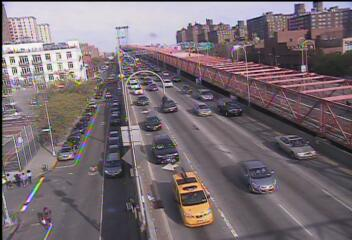neg: (109, 188, 134, 222), (279, 124, 304, 157), (174, 120, 198, 151), (1, 29, 24, 61), (261, 160, 284, 190), (140, 44, 163, 74), (53, 60, 76, 90), (266, 64, 288, 95), (210, 54, 232, 83), (307, 49, 329, 78), (136, 124, 157, 153), (182, 186, 203, 215), (217, 117, 238, 145), (96, 51, 116, 79), (77, 149, 97, 176), (87, 100, 103, 121)
pos: (33, 202, 54, 230), (26, 166, 40, 185), (16, 172, 28, 188)
